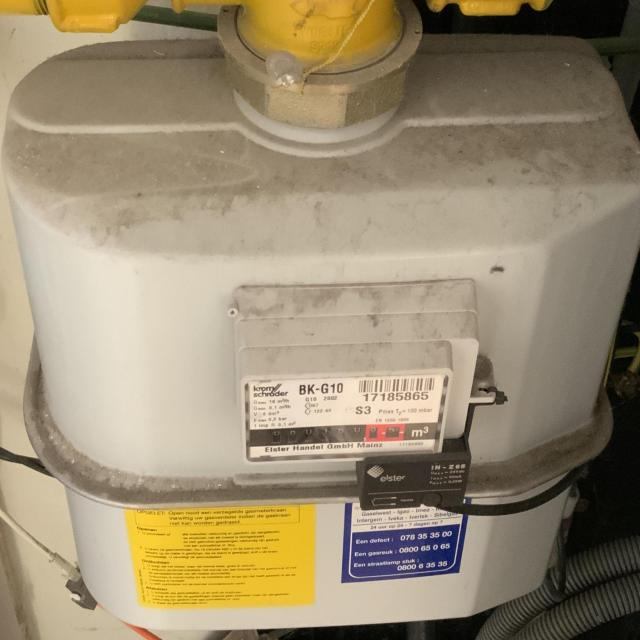gaz_meter: (245, 376, 445, 464)
indication: (254, 422, 406, 446)
